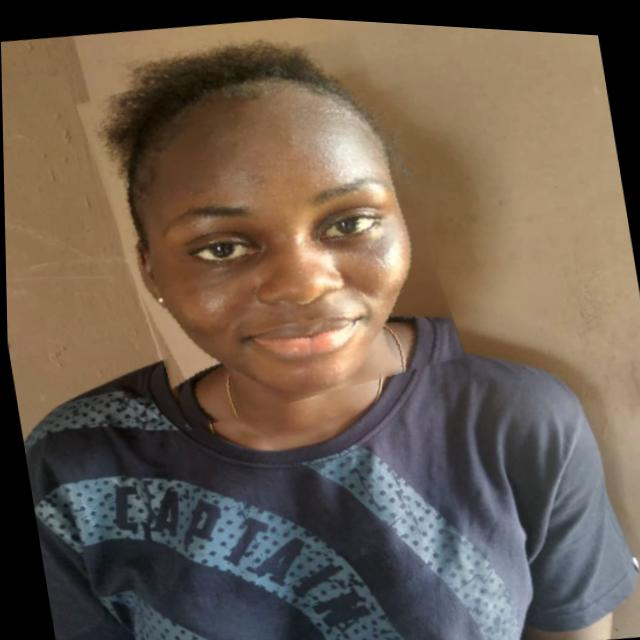happy: (83, 18, 459, 436)
